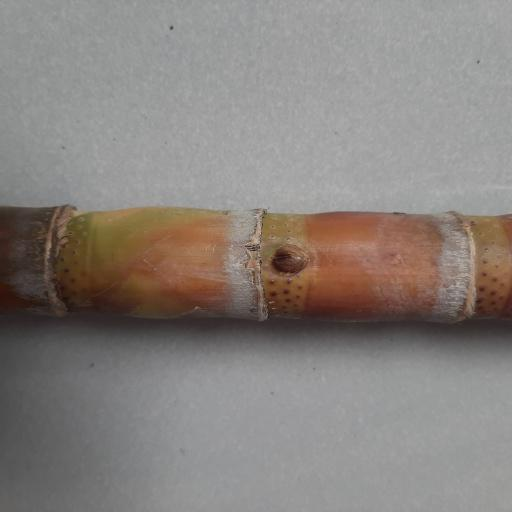Bud: (271, 243, 310, 275)
